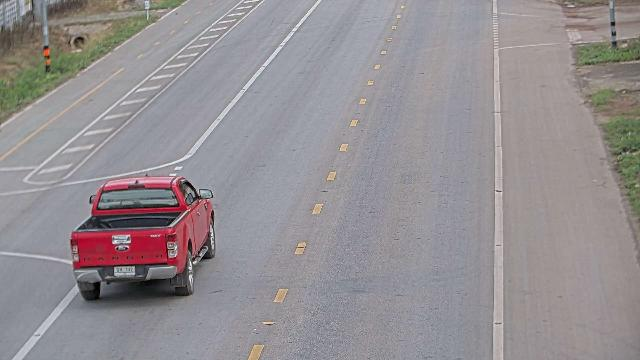pickup-truck: (69, 173, 216, 300)
